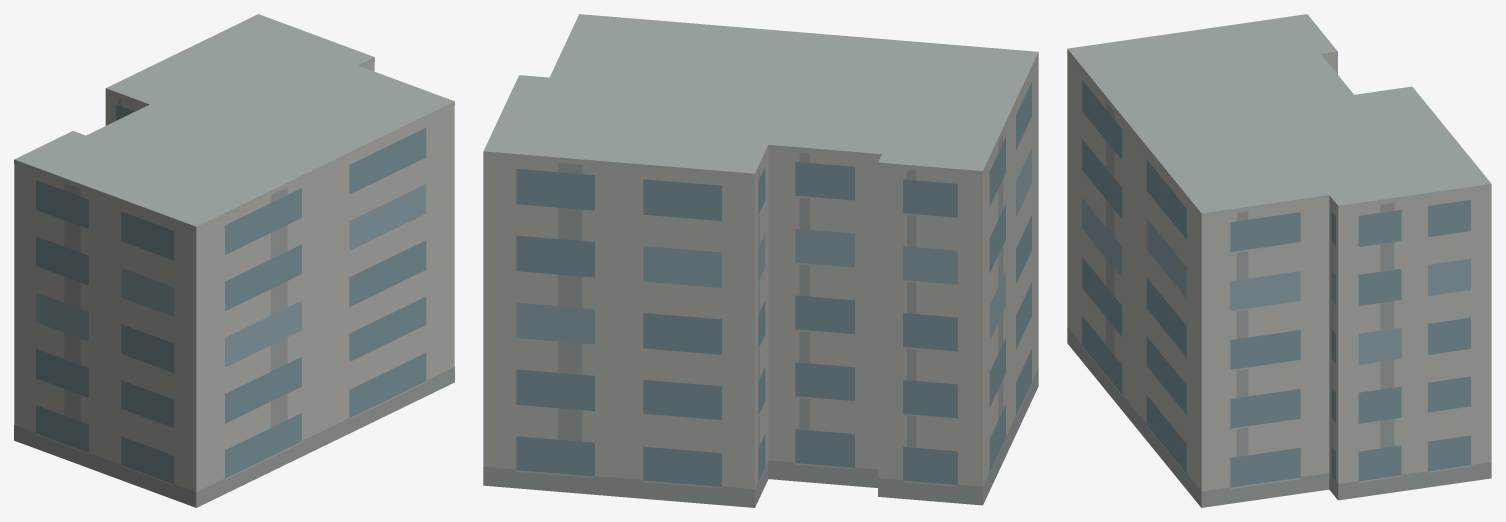
The model's file is survey-upis-32700839.glb.
3 renders of one model, left to right at view 1: azimuth 30°, elevation 25°; view 2: azimuth 150°, elevation 25°; view 3: azimuth 270°, elevation 25°, orthographic. The views are drawn at different scales.
Parts seen in each view (by area): view 1: survey-upis-32700839.tmp; view 2: survey-upis-32700839.tmp; view 3: survey-upis-32700839.tmp.
Boxes of the visible parts, bbox=[...] form: survey-upis-32700839.tmp: bbox=[14, 14, 454, 507]; survey-upis-32700839.tmp: bbox=[483, 14, 1038, 507]; survey-upis-32700839.tmp: bbox=[1067, 14, 1491, 507].
Bounding box in the file's own units: 21.13 × 14.55 × 19.01.
